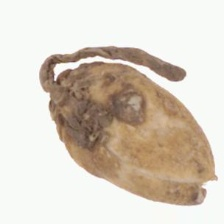L1: (36, 52, 93, 137), (197, 169, 219, 206)
L2: (38, 46, 218, 207)
